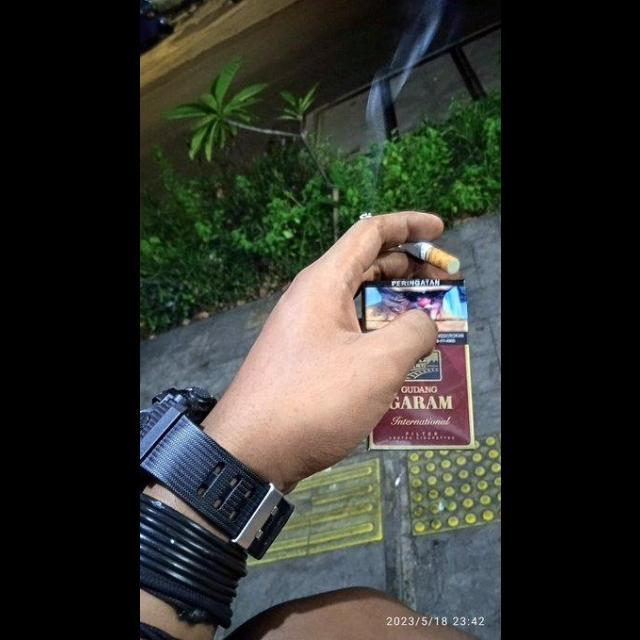rokok: (354, 206, 462, 276)
